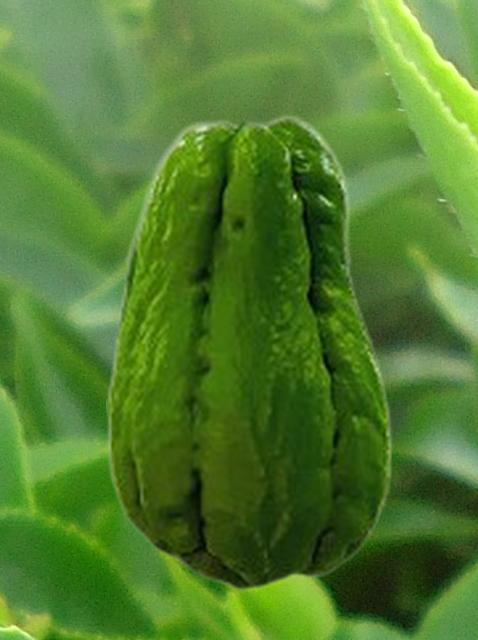sayote: (106, 113, 392, 591)
